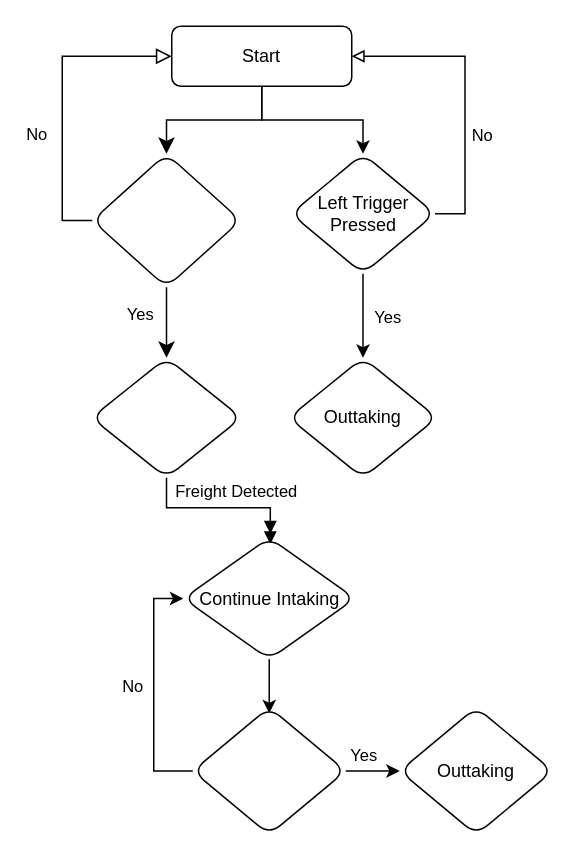
Image size: 579x861. Some labels were removed from this diagram. The shapes that lost their labels are listed below. From the top down, each one's centre as x and y in pixels, then its label:
point (166, 219): Right Trigger Pressed
point (166, 417): Intaking
point (268, 770): Freight has passed intake
